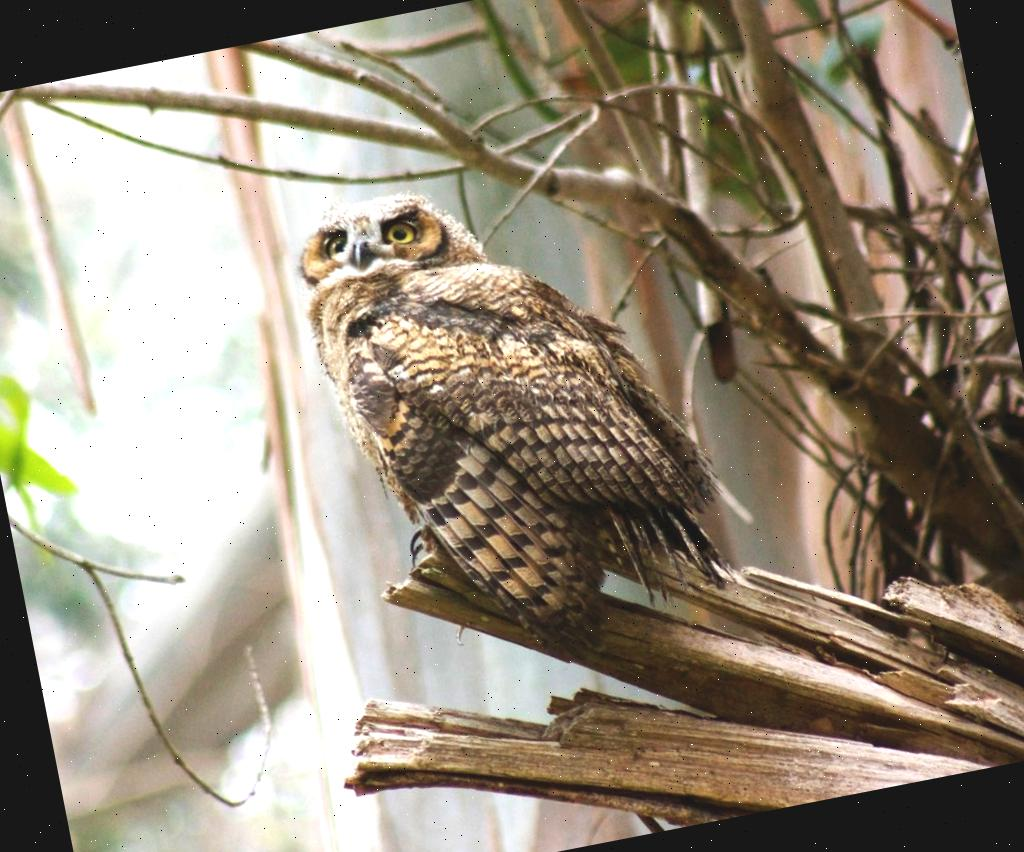Owl: (276, 136, 754, 706)
